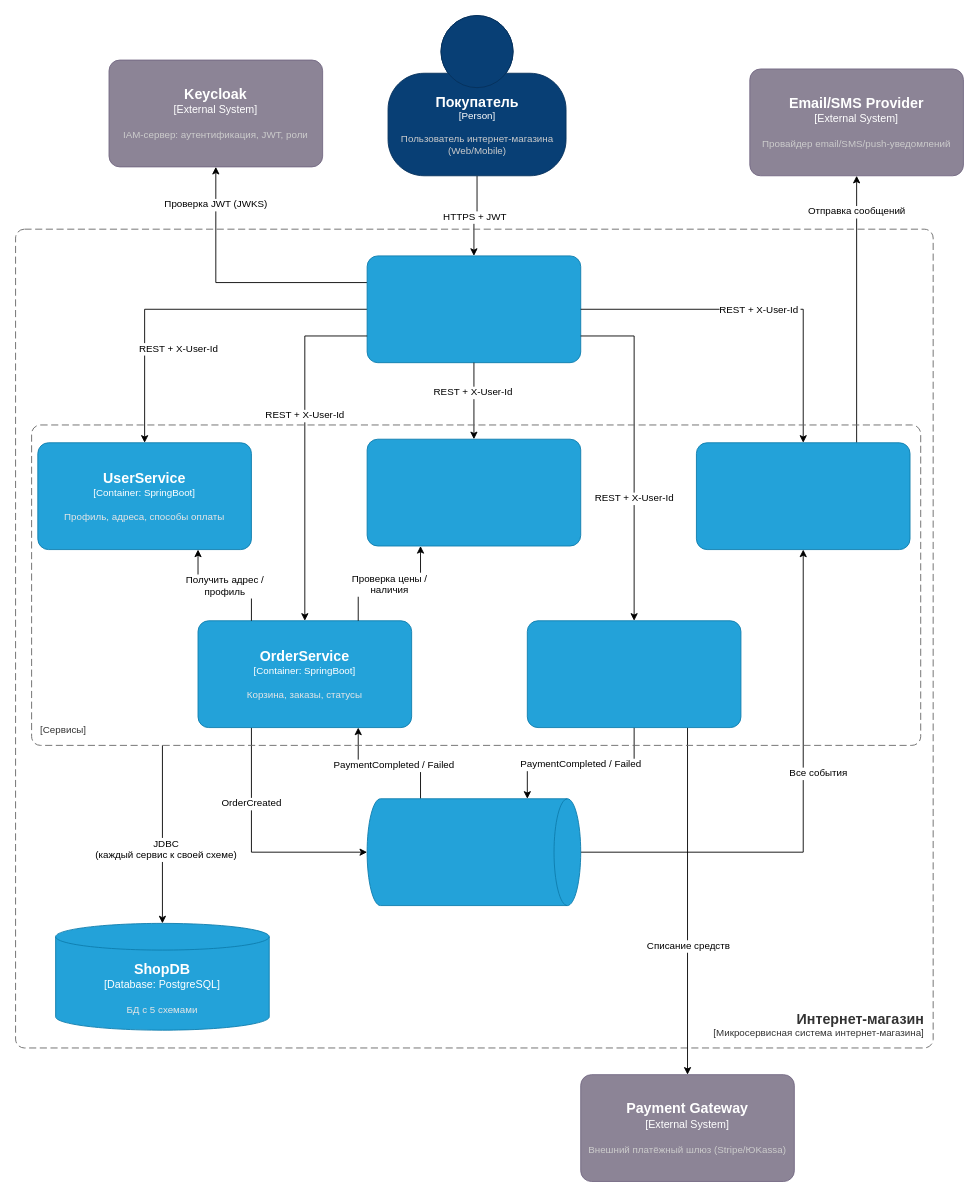
Some shapes in this 979 by 1197 pixel diagram are drawn without their labels. Here are the shapes that lost their labels. From the top down, the centre of each, then its label:
At (x=473, y=309): "API Gateway [Container: Spring Cloud Gateway] Маршрутизация, JWT-валидация".
At (x=473, y=492): "ProductService [Container: SpringBoot] Каталог, категории, цены".
At (x=803, y=496): "NotificationService [Container: SpringBoot] Уведомления: email, SMS, push".
At (x=633, y=674): "PaymentService [Container: SpringBoot] Платежи, возвраты, интеграция с банком".
At (x=473, y=852): "Message Broker [Container: Apache Kafka] Асинхронные события".
